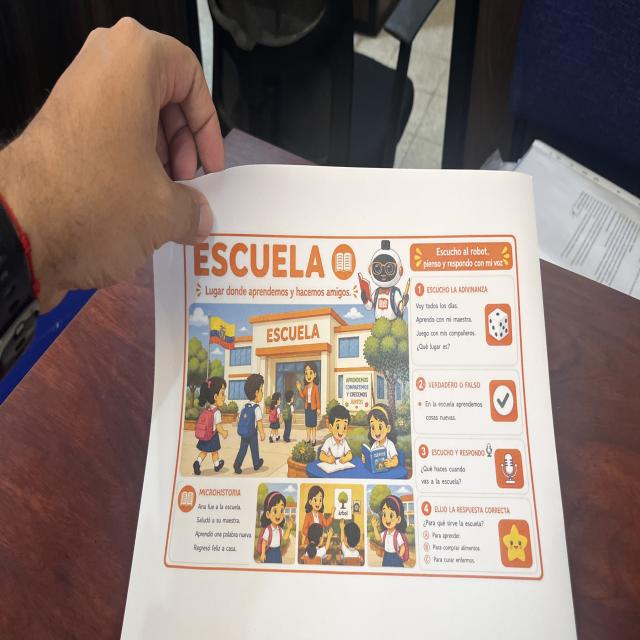escuela: (159, 228, 546, 588)
